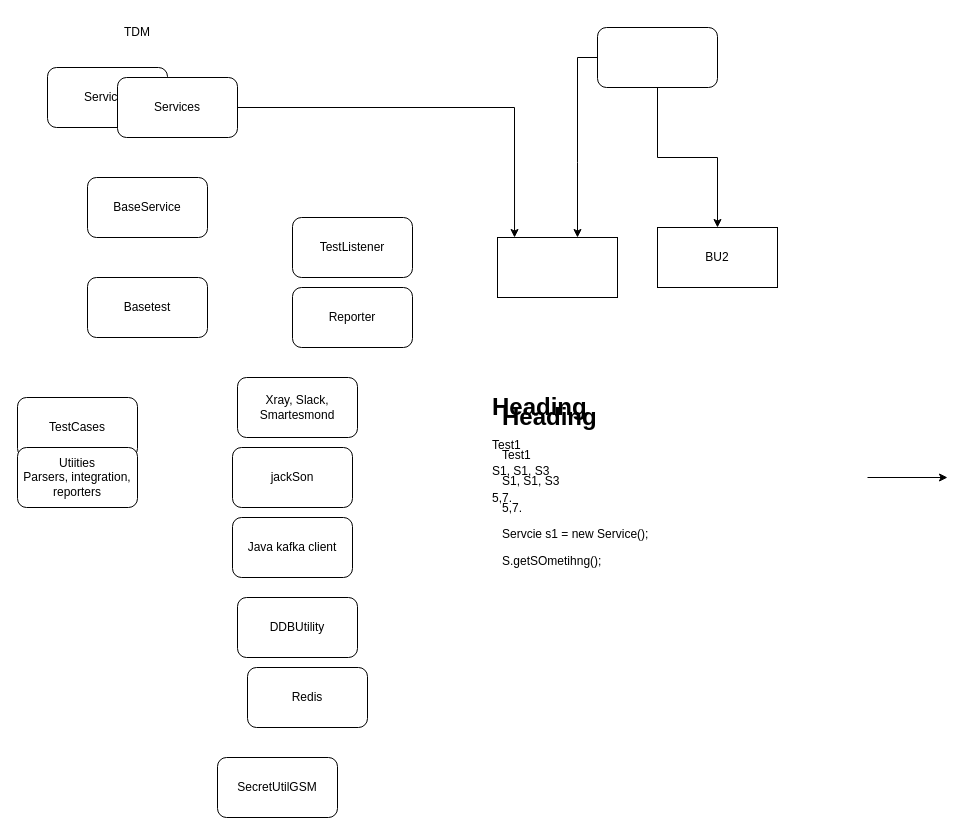
The diagram is 973 pixels wide and 835 high, and some of its shapes have lost their labels. The box of each missing label's shape, as (x1, y1, x2, y2) in pixels:
BU1: (496, 236, 618, 298)
Core Framewordk: (596, 26, 718, 88)
